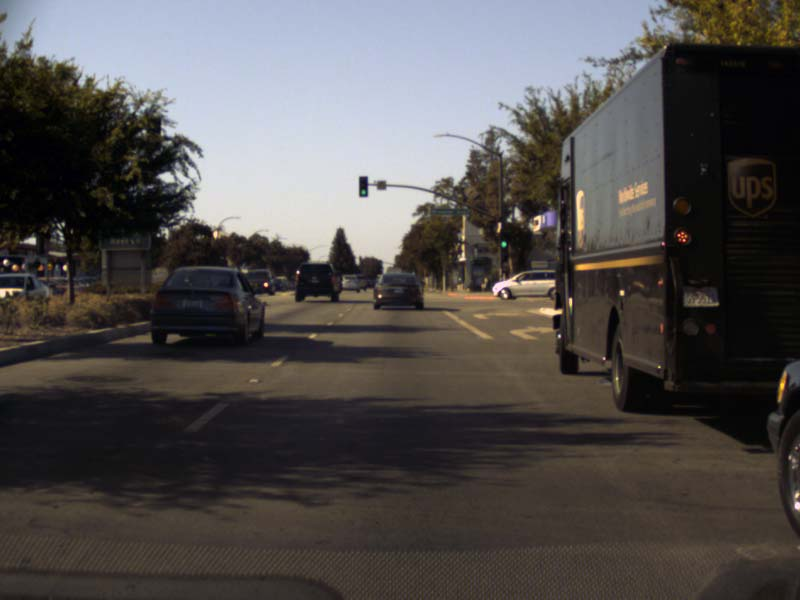Green: (498, 224, 510, 251), (358, 176, 369, 196)
